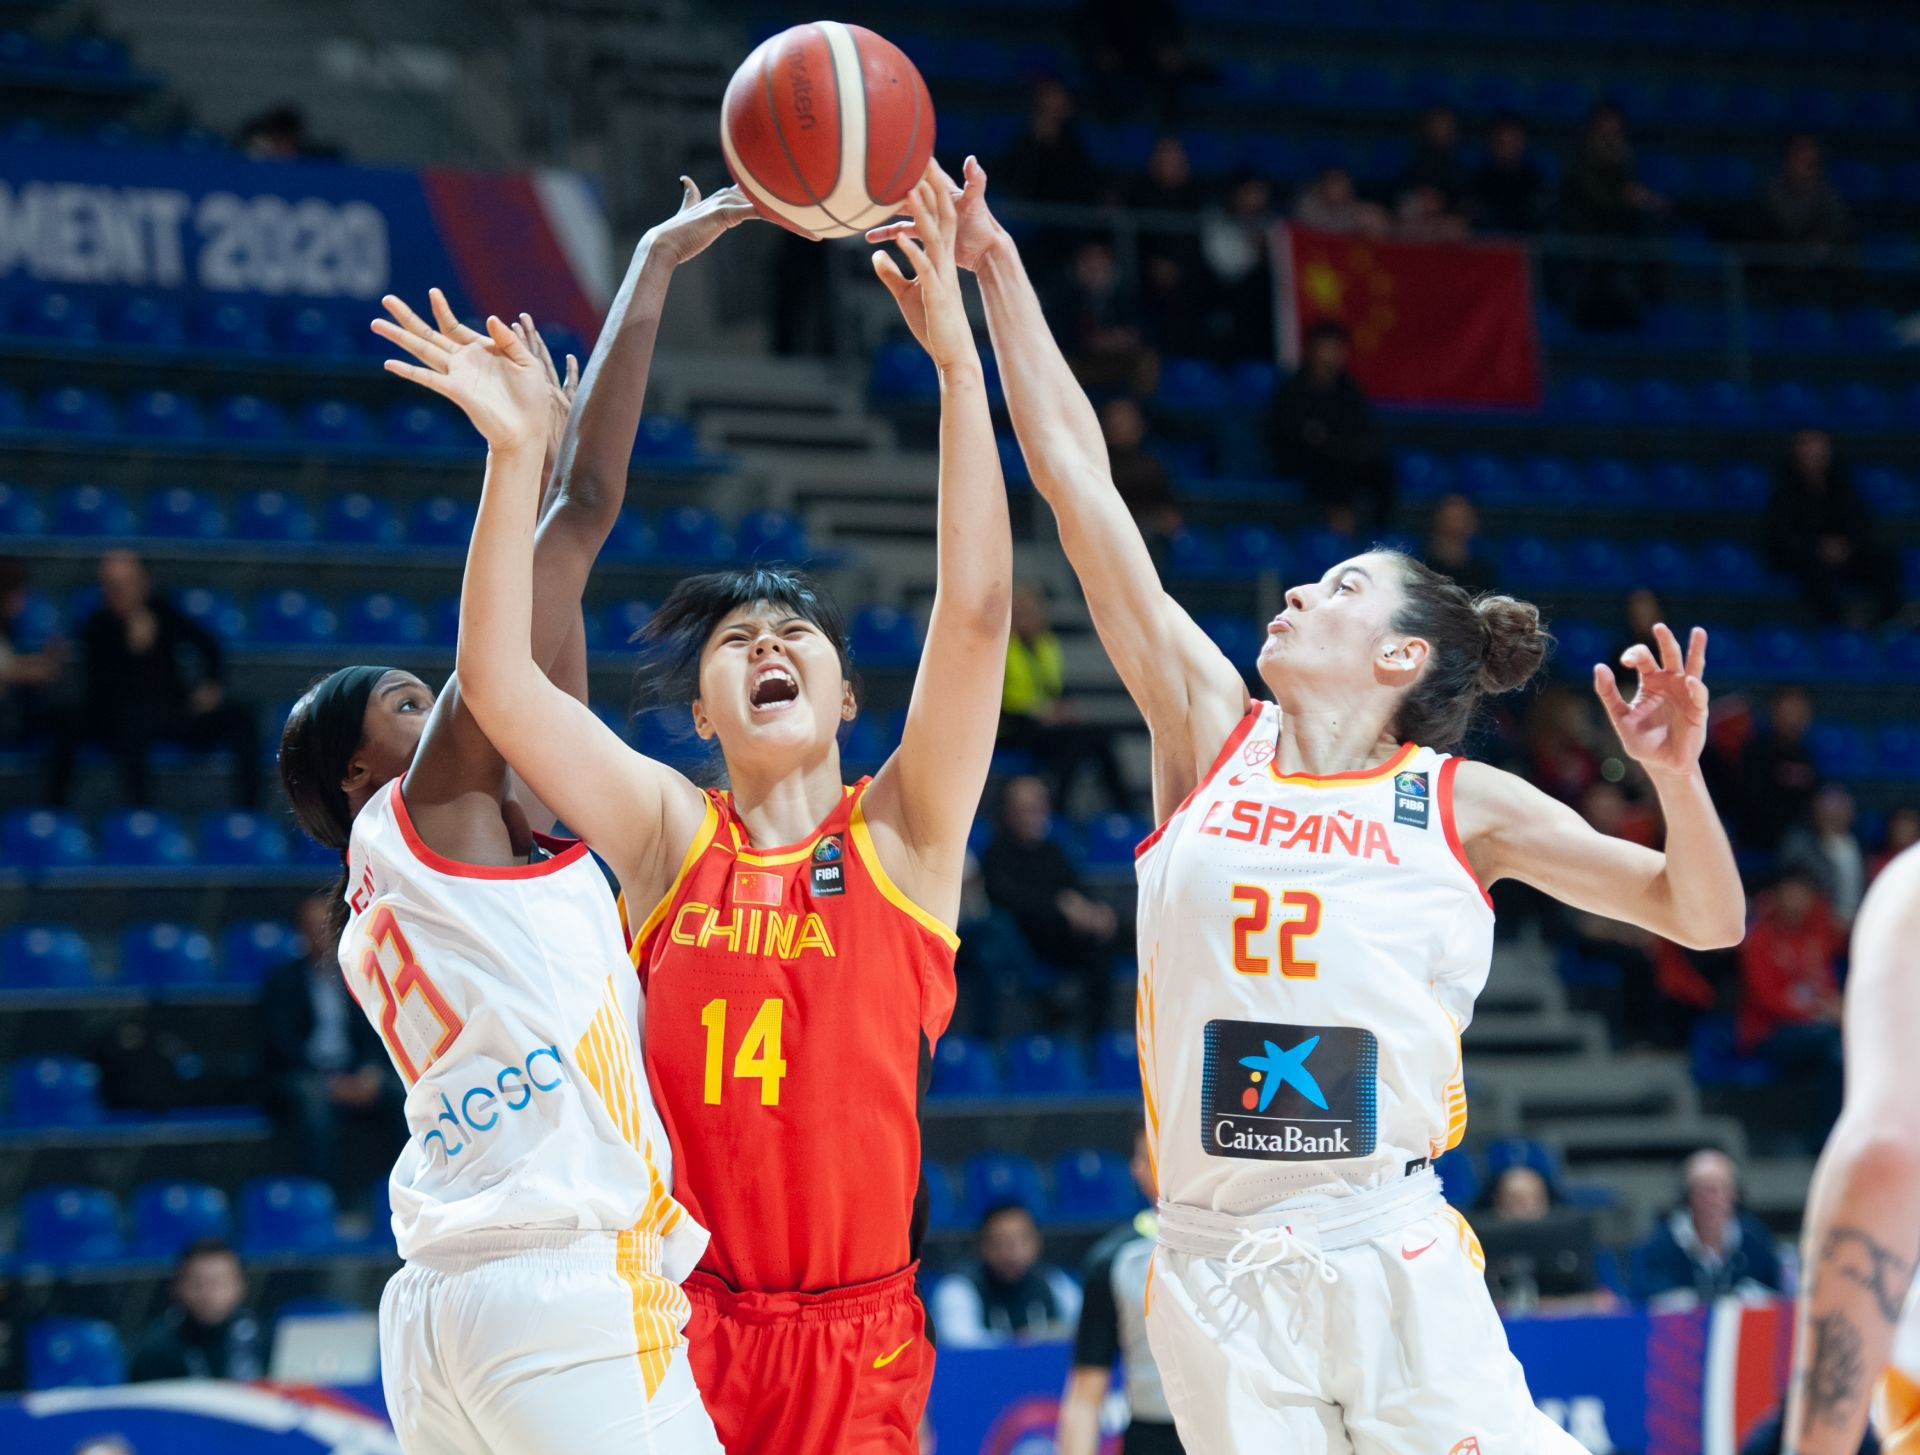ball: (718, 18, 940, 238)
